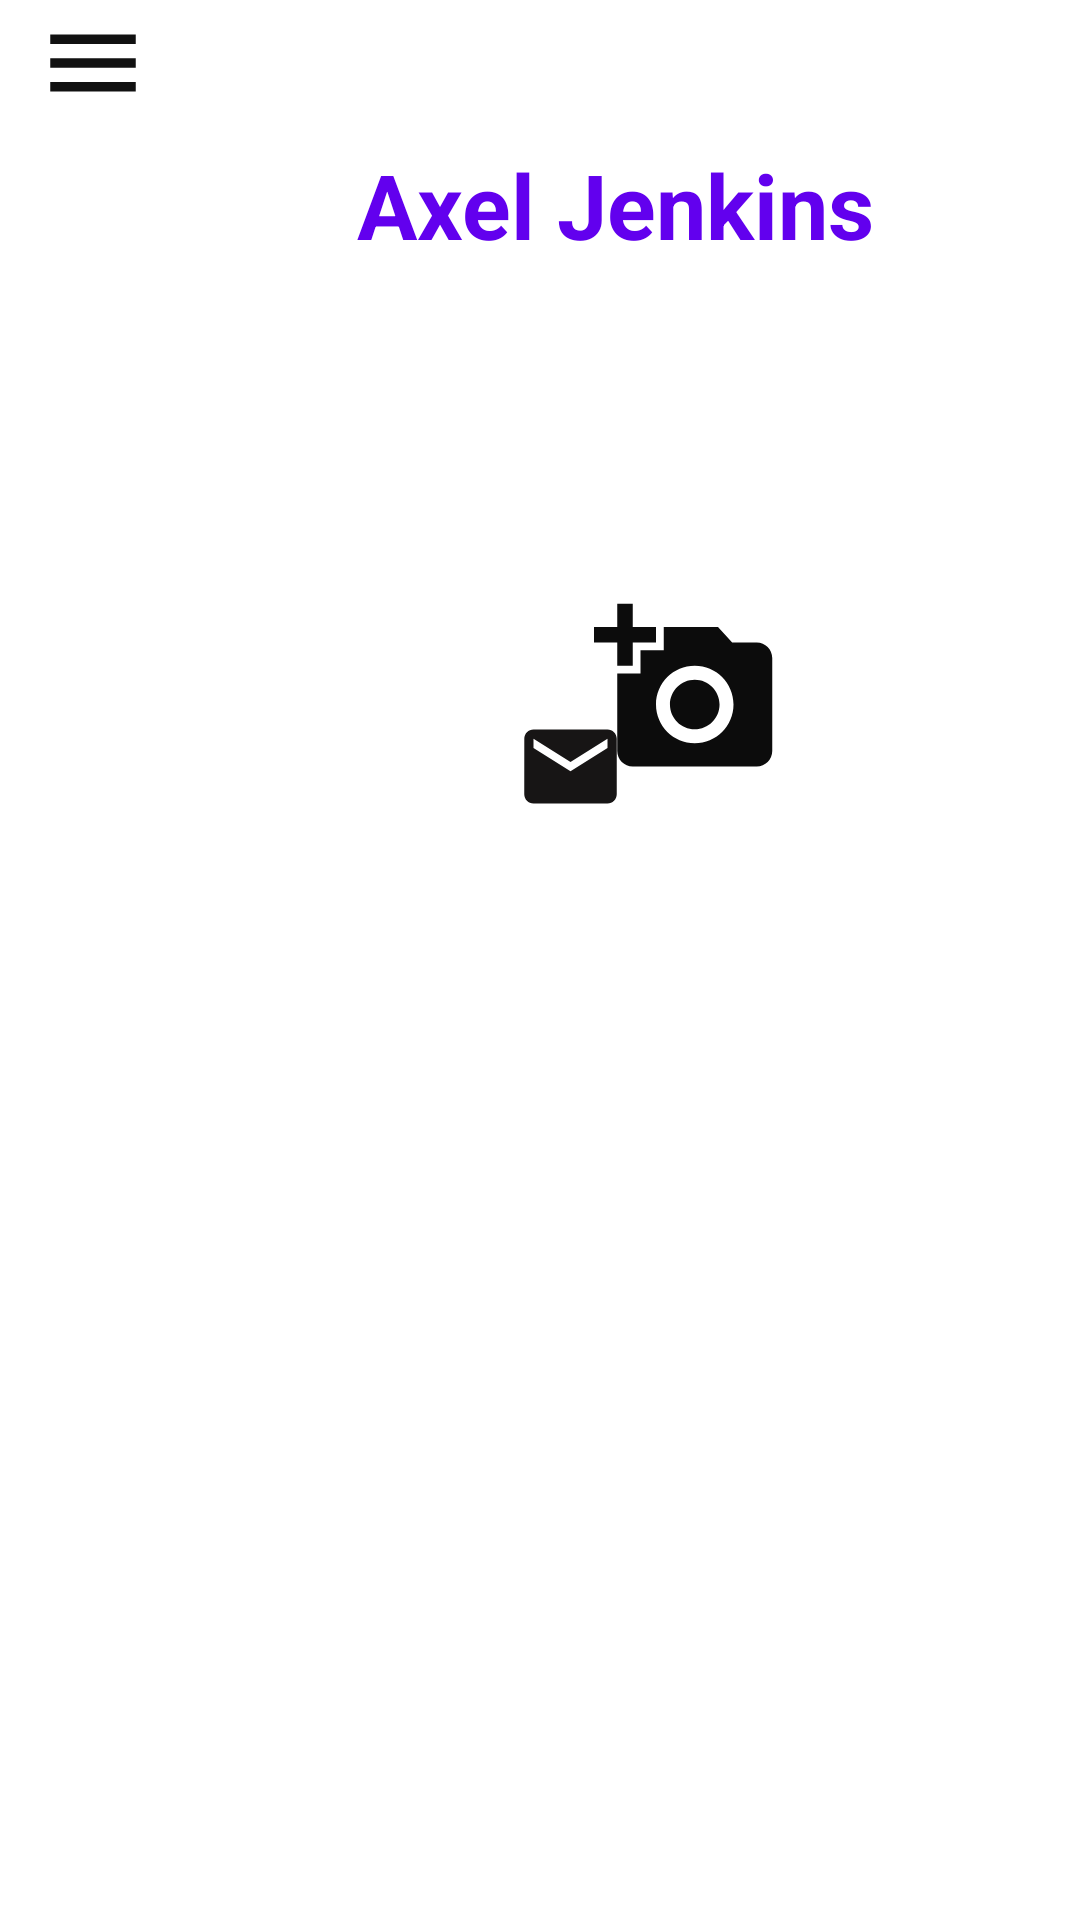

Icons on this 1080w x 1920h Android screen, each with its box as box=[x1, y1, x2, y2]:
add photo: box=[594, 603, 773, 798]
menu: box=[50, 34, 136, 92]
